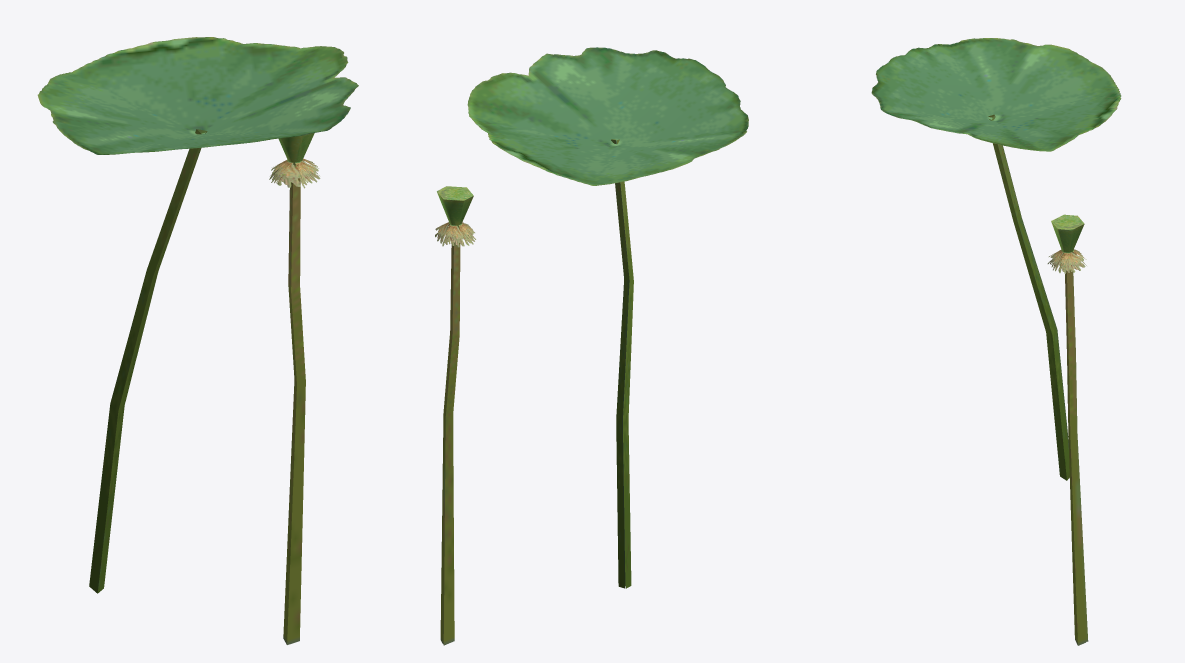
Rendered from ss_hehua_2.FBX.
3 renders of one model, left to right at view 1: azimuth 30°, elevation 25°; view 2: azimuth 150°, elevation 25°; view 3: azimuth 270°, elevation 25°, orthographic. The views are drawn at different scales.
Parts seen in each view (by area): view 1: ss_hehua_2; view 2: ss_hehua_2; view 3: ss_hehua_2.
Part boxes in pixels (box(x1,y1,x2,y2)): ss_hehua_2: box(37, 37, 358, 644); ss_hehua_2: box(435, 47, 748, 645); ss_hehua_2: box(871, 38, 1121, 645).
Size of the model in its own units: 9485 by 15689 by 9331.
